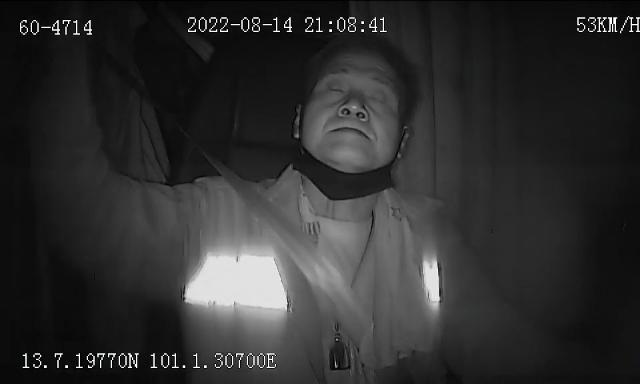SafeDriving: (337, 98, 372, 124)
Seatbelt: (206, 155, 380, 366)
